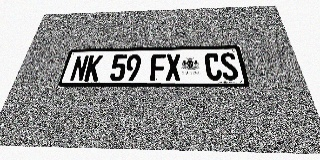5: (109, 55, 127, 81)
9: (125, 54, 142, 81)
C: (204, 53, 223, 80)
F: (150, 54, 166, 81)
K: (84, 55, 103, 81)
N: (69, 55, 90, 81)
S: (219, 53, 240, 80)
X: (166, 54, 181, 81)
